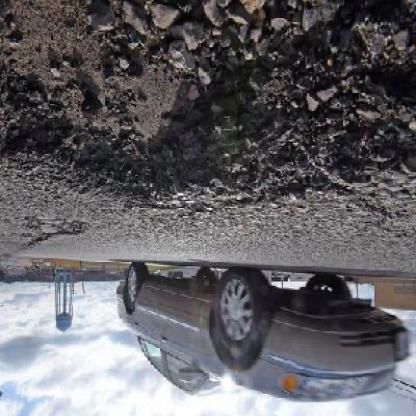pothole: (0, 0, 416, 215), (20, 216, 92, 252)
